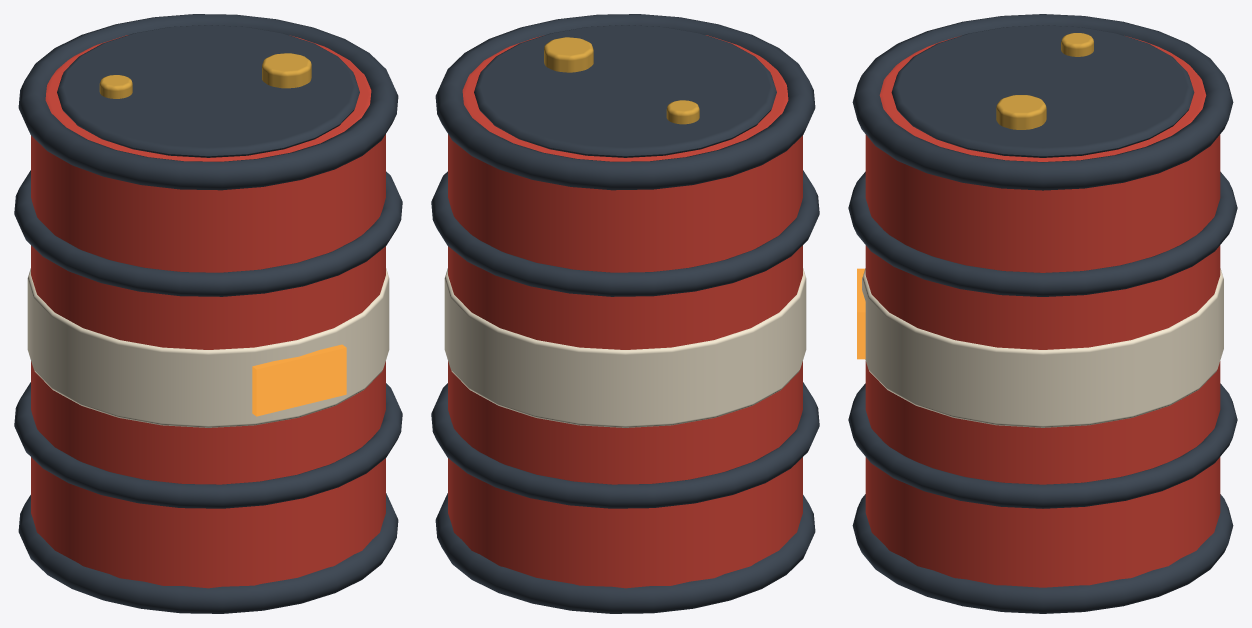
Rendered from barrel.glb.
The picture shows the model from 3 angles, left to right: view 1: azimuth 30°, elevation 25°; view 2: azimuth 150°, elevation 25°; view 3: azimuth 270°, elevation 25°; orthographic projection.
Visible parts, largest first — view 1: barrel_body; view 2: barrel_body; view 3: barrel_body.
Boxes of the visible parts, box(x1,y1,x2,y2) form: barrel_body: box(14, 14, 402, 613); barrel_body: box(431, 14, 819, 613); barrel_body: box(848, 14, 1237, 613).
Size of the model in its own units: 0.9 by 1.2 by 0.9.
